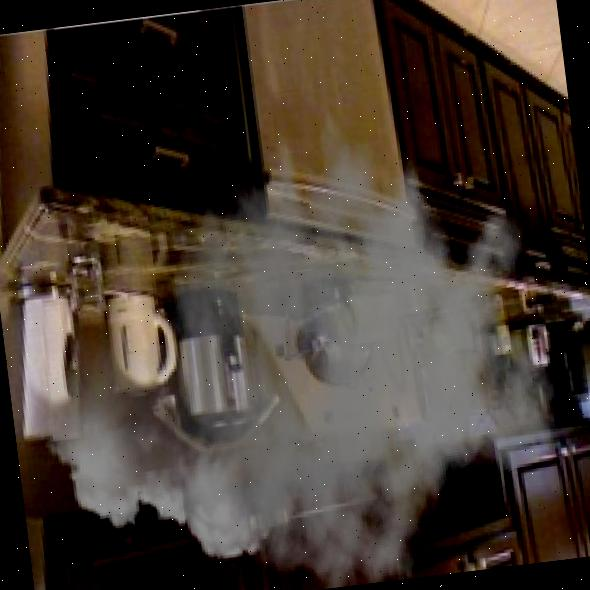smoke: (0, 61, 580, 590)
